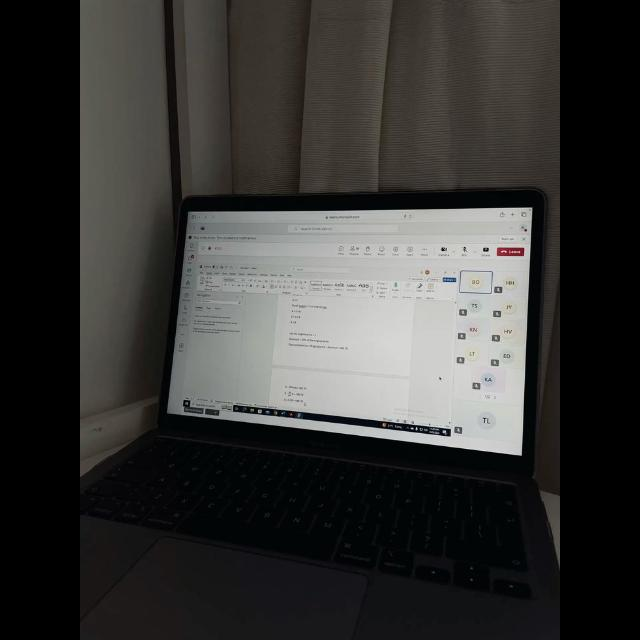laptop: (80, 188, 560, 639)
